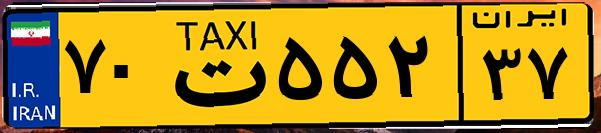0: (110, 28, 158, 98)
2: (385, 28, 445, 110)
3: (475, 38, 525, 113)
5: (270, 28, 330, 110), (330, 28, 385, 110)
7: (57, 26, 110, 100), (525, 38, 570, 115)
ت: (158, 12, 270, 120)
